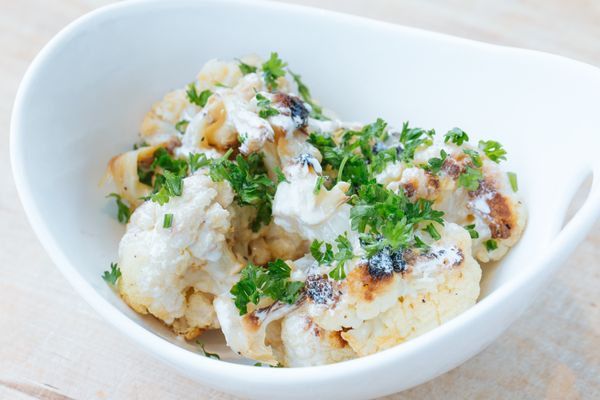curry: (207, 149, 278, 232), (229, 257, 303, 315)
sushi: (10, 5, 550, 390)
